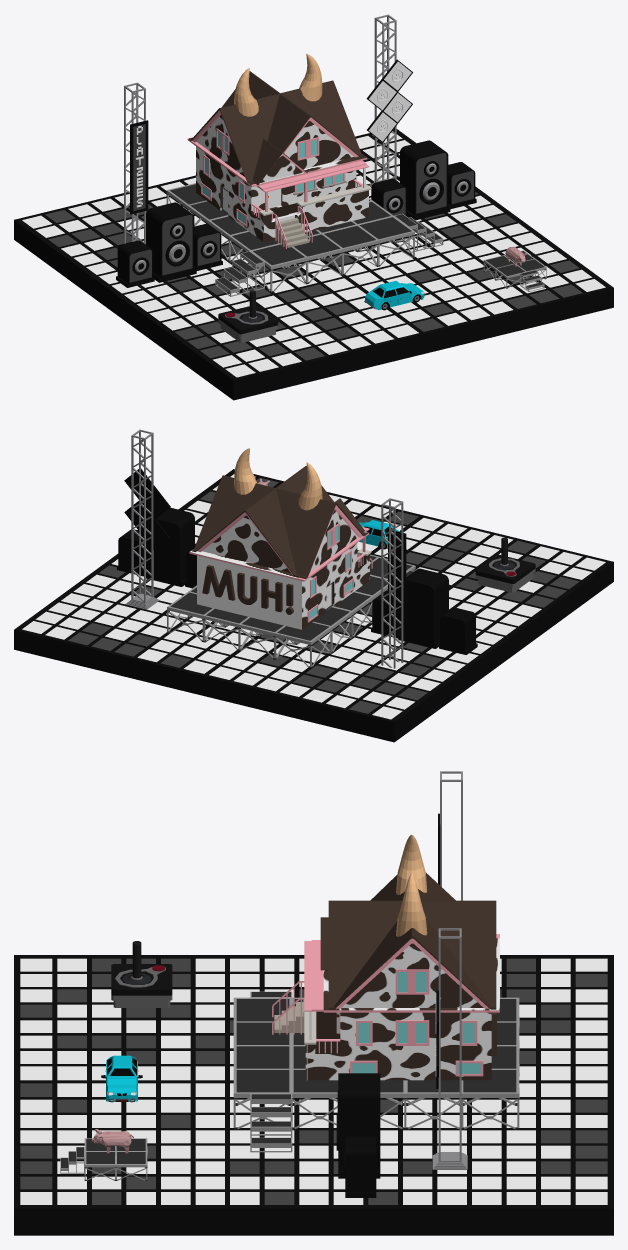
3 views of the same model, one above another, from view 1: azimuth 30°, elevation 25°; view 2: azimuth 150°, elevation 25°; view 3: azimuth 270°, elevation 25° (orthographic). The views are drawn at different scales.
Parts seen in each view (by area): view 1: Cube.008, Cube.1242, OBJRANDOM_JOYSTICK, VEHICLES_CAR; view 2: Cube.008, Cube.1242, OBJRANDOM_JOYSTICK, VEHICLES_CAR; view 3: Cube.008, Cube.1242, OBJRANDOM_JOYSTICK, VEHICLES_CAR, ANIMAL_CERDO.
Boxes of the visible parts, bbox=[...] form: Cube.008: bbox=[14, 14, 613, 400]; Cube.1242: bbox=[187, 54, 371, 248]; OBJRANDOM_JOYSTICK: bbox=[218, 290, 278, 342]; VEHICLES_CAR: bbox=[364, 281, 424, 310]; Cube.008: bbox=[14, 429, 613, 742]; Cube.1242: bbox=[189, 448, 372, 629]; OBJRANDOM_JOYSTICK: bbox=[475, 537, 535, 592]; VEHICLES_CAR: bbox=[359, 520, 400, 549]; Cube.008: bbox=[14, 771, 613, 1235]; Cube.1242: bbox=[272, 834, 499, 1080]; OBJRANDOM_JOYSTICK: bbox=[111, 941, 172, 1007]; VEHICLES_CAR: bbox=[101, 1055, 142, 1102]; ANIMAL_CERDO: bbox=[92, 1129, 133, 1153].
Bounding box in the file's own units: 4000 × 1995 × 4000.
Materials: 47 (2 with a texture image).
